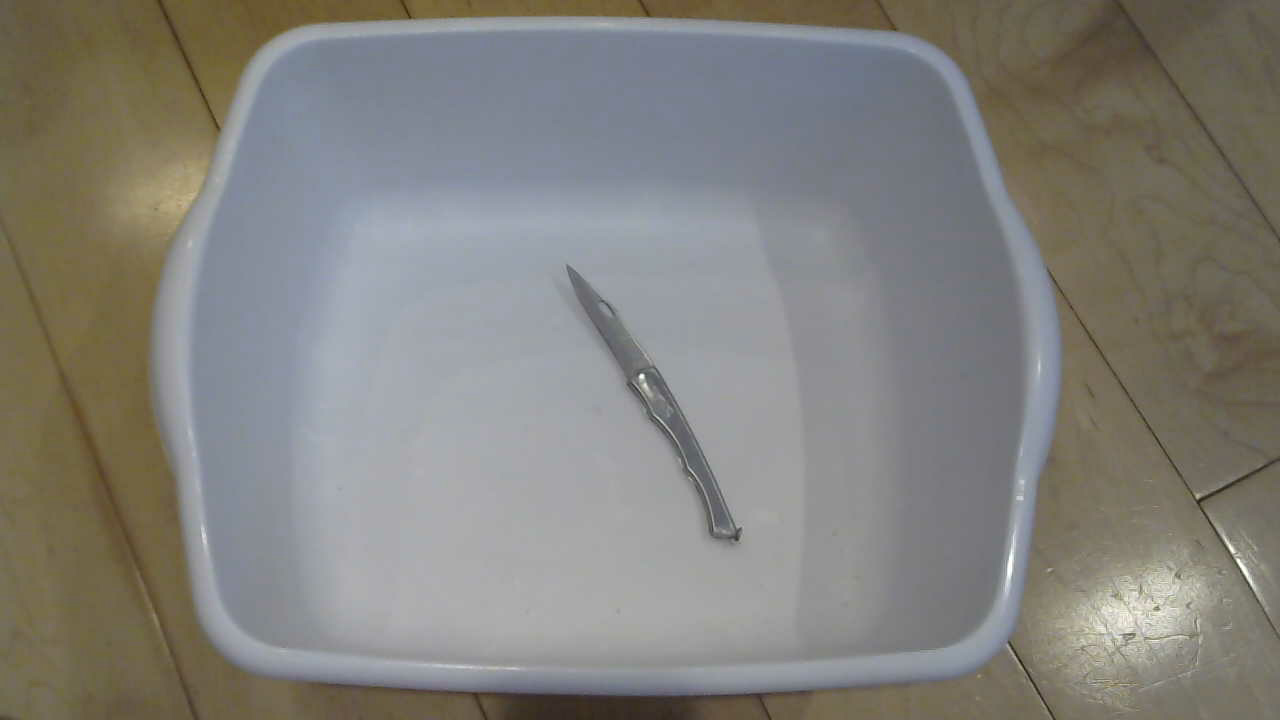knife: (562, 268, 757, 545)
